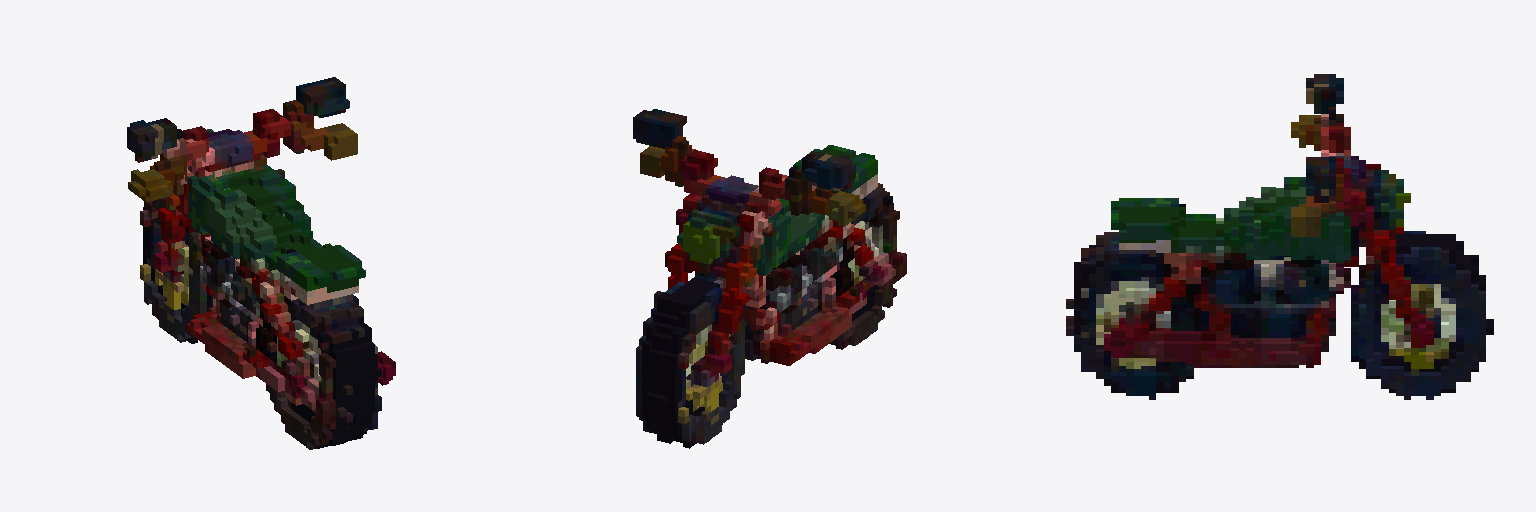
3 renders of one model, left to right at view 1: azimuth 30°, elevation 25°; view 2: azimuth 150°, elevation 25°; view 3: azimuth 270°, elevation 25°, orthographic.
Parts seen in each view (by area): view 1: object 1; view 2: object 1; view 3: object 1.
Part boxes in pixels (x1,y1,x2,y2): object 1: (127,77,395,449); object 1: (633,109,906,448); object 1: (1066,74,1493,399).
Size of the model in its own units: 3.3 by 3.9 by 5.7.
Materials: 1 (1 with a texture image).